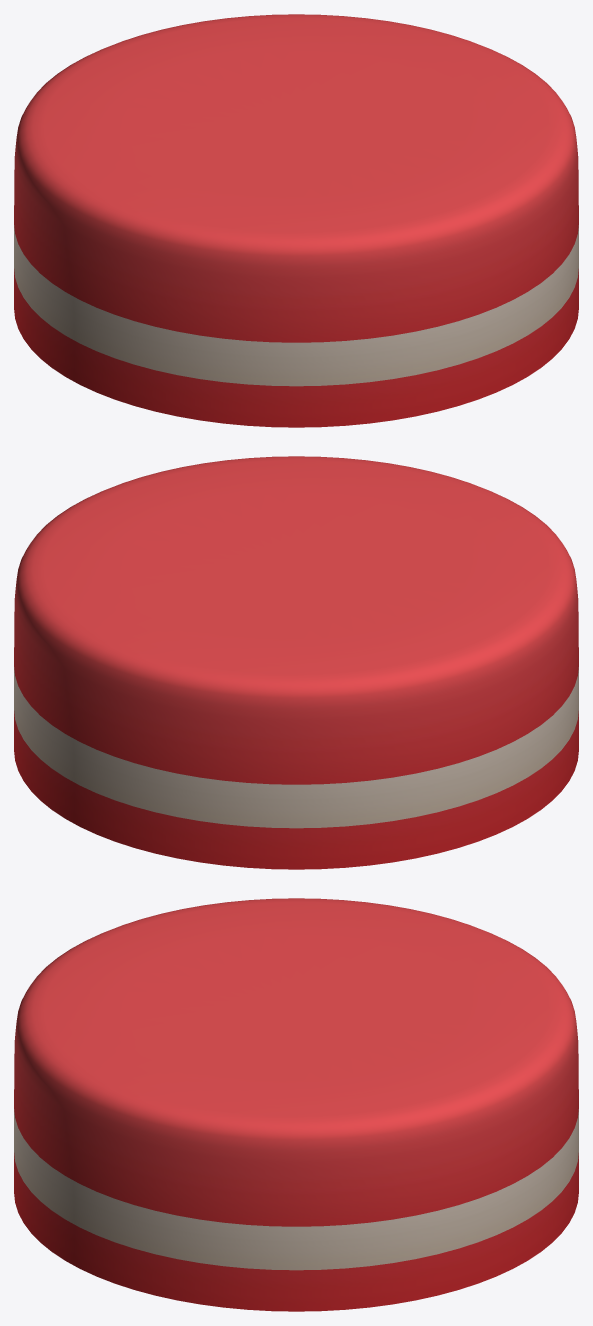
Rendered from cake02.FBX.
The picture shows the model from 3 angles, top to bottom: view 1: azimuth 30°, elevation 25°; view 2: azimuth 150°, elevation 25°; view 3: azimuth 270°, elevation 25°; orthographic projection.
Parts seen in each view (by area): view 1: cake02; view 2: cake02; view 3: cake02.
Part boxes in pixels (left/top/right/bottom): cake02: left=14, top=14, right=578, bottom=427; cake02: left=14, top=456, right=578, bottom=869; cake02: left=14, top=898, right=578, bottom=1311.
Bounding box in the file's own units: 0.0193 × 0.00693 × 0.0193.
